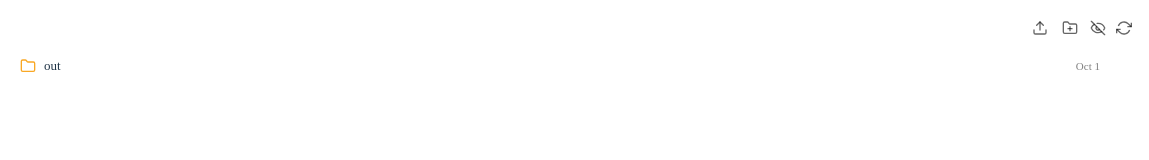
Test: compact variant › shows Up and the path inside a folder
Click the text "out" at (52, 66), box [44,58,61,74]
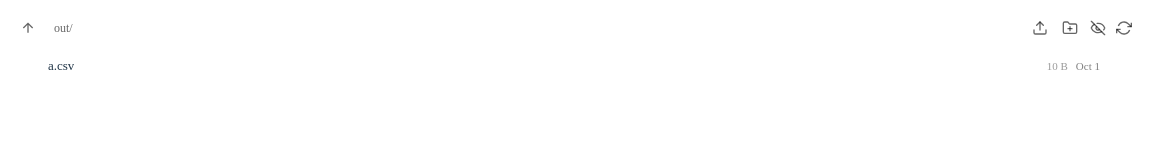
Check: the text "a.csv" is shown, box [48,58,74,74]
Check: the text titled "/out" is shown, box [54,20,73,34]
Click the button named "Up one level" at (28, 28), box [14,14,42,42]
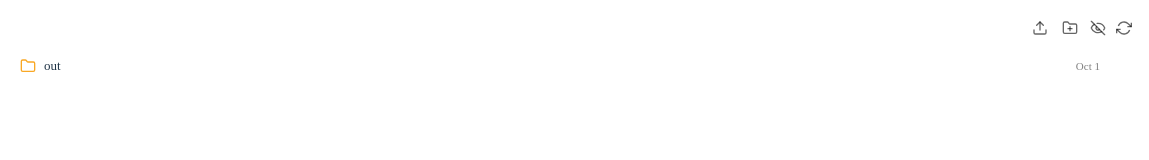
Check: the text "out" is shown, box [44,58,61,74]
